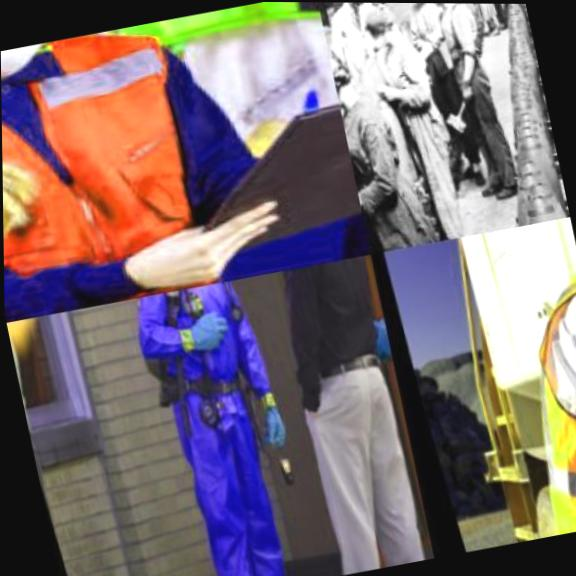safety_vest: (0, 15, 237, 323), (471, 260, 576, 540), (113, 275, 280, 423)
